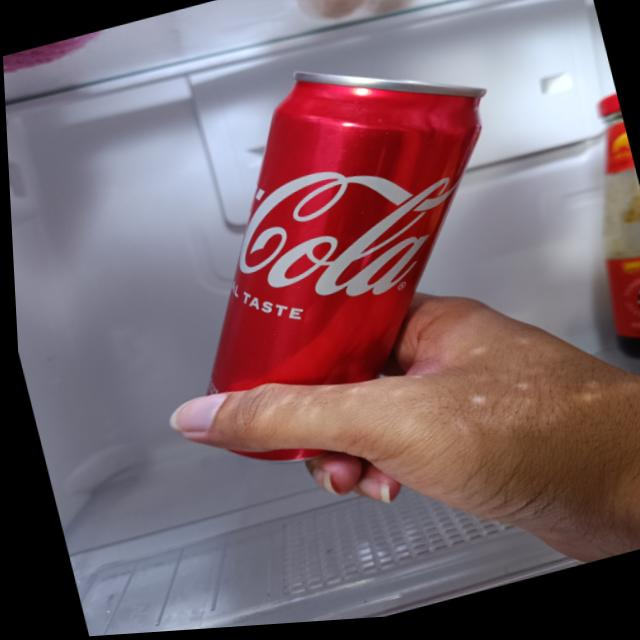coke: (126, 24, 560, 490)
